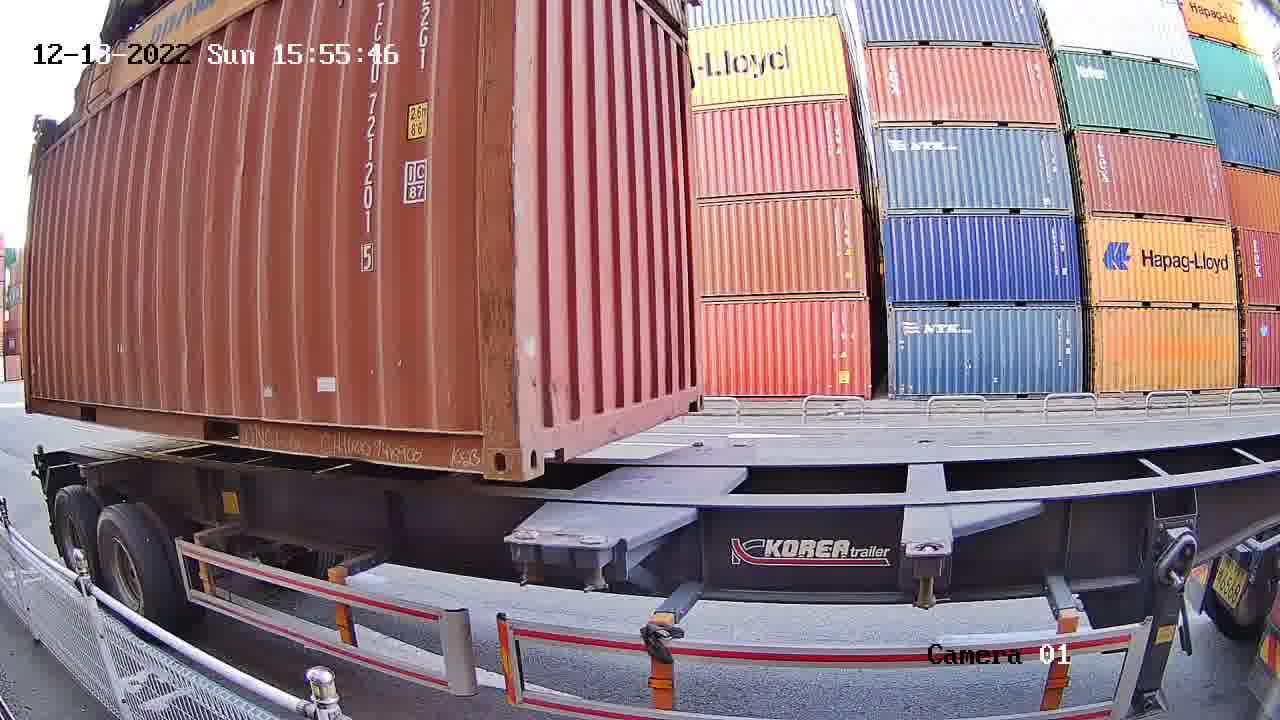Chassis: (571, 442, 757, 550), (509, 444, 709, 544)
Cone: (502, 530, 543, 593), (573, 535, 614, 597), (728, 438, 753, 452), (687, 438, 706, 451)
Hole_L: (520, 390, 575, 480)
Hole_R: (453, 408, 520, 482), (675, 364, 708, 416)
Tire: (97, 509, 158, 616), (55, 494, 92, 561)
